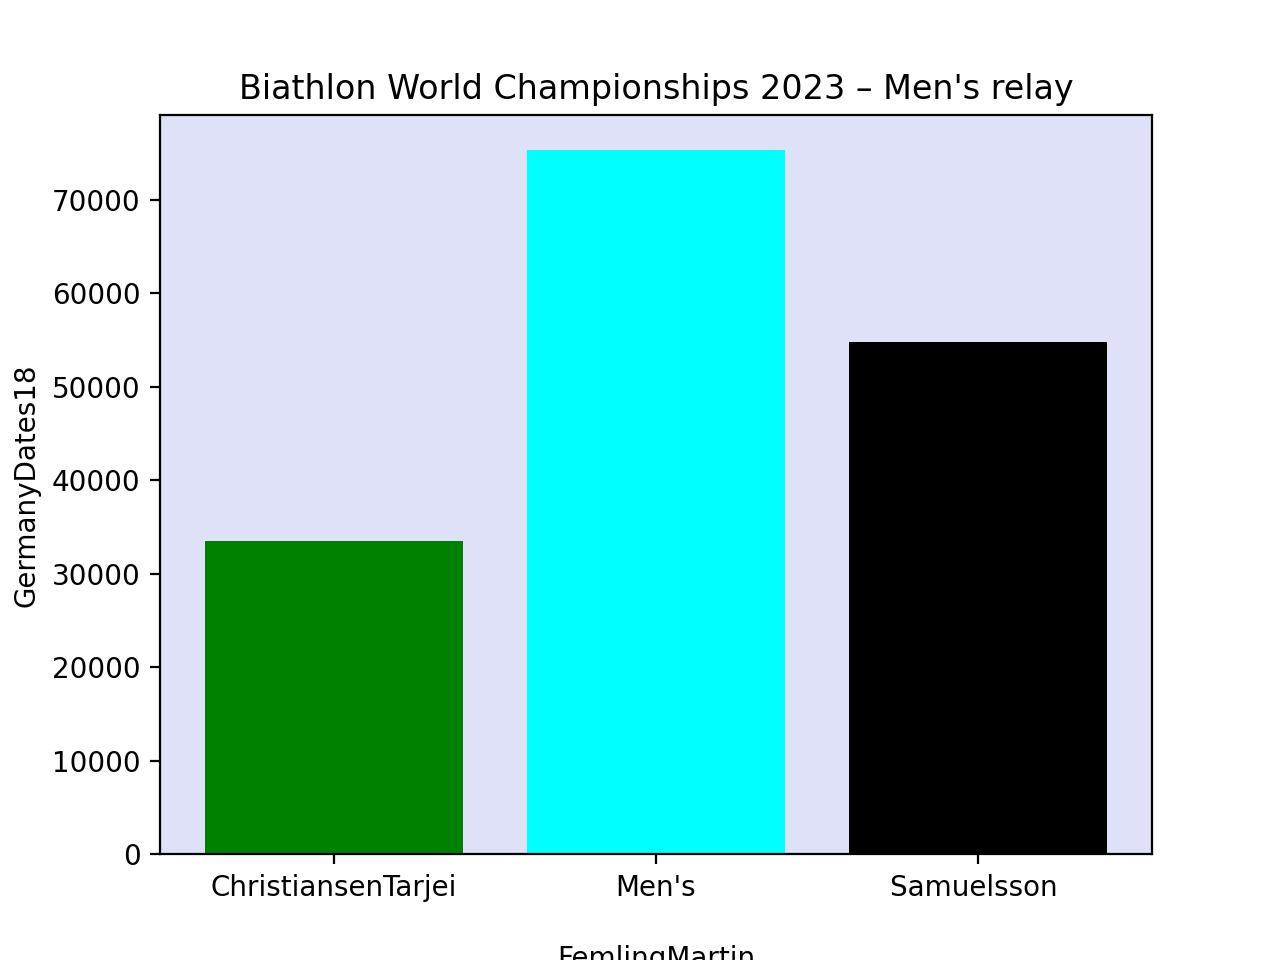axis: (12, 189, 140, 871)
rectangle: (527, 150, 785, 854), (849, 342, 1107, 854), (205, 541, 463, 854)
